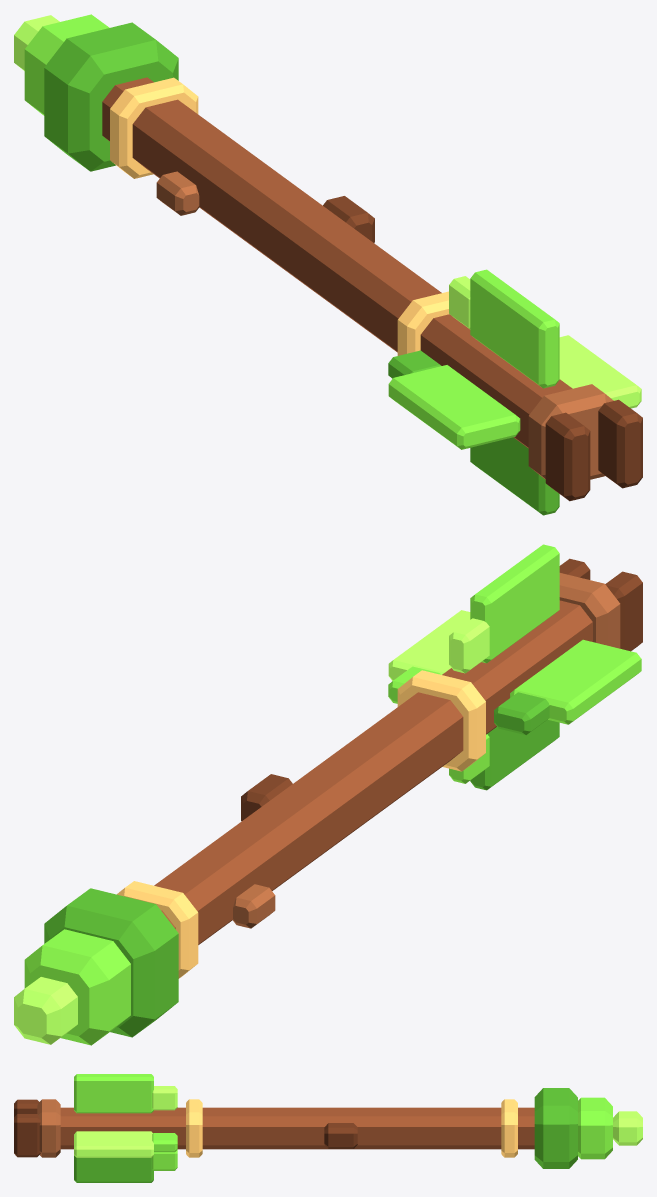
Rendered from twig_arrow.glb.
3 renders of one model, top to bottom at view 1: azimuth 30°, elevation 25°; view 2: azimuth 150°, elevation 25°; view 3: azimuth 270°, elevation 25°, orthographic. The views are drawn at different scales.
Visible parts, largest first — view 1: Shaft, Fletching, Head, Wraps; view 2: Shaft, Fletching, Head, Wraps; view 3: Shaft, Fletching, Head, Wraps.
Boxes of the visible parts, bbox=[...] form: Shaft: bbox=[102, 77, 642, 501]; Fletching: bbox=[388, 269, 641, 515]; Head: bbox=[14, 14, 178, 171]; Wraps: bbox=[110, 77, 449, 355]; Shaft: bbox=[154, 558, 642, 944]; Fletching: bbox=[388, 544, 641, 790]; Head: bbox=[14, 888, 178, 1045]; Wraps: bbox=[117, 670, 485, 978]; Shaft: bbox=[14, 1099, 534, 1157]; Fletching: bbox=[74, 1074, 177, 1182]; Head: bbox=[534, 1088, 642, 1168]; Wraps: bbox=[186, 1099, 517, 1157].
Bounding box in the file's own units: 0.35 × 0.35 × 1.88.
